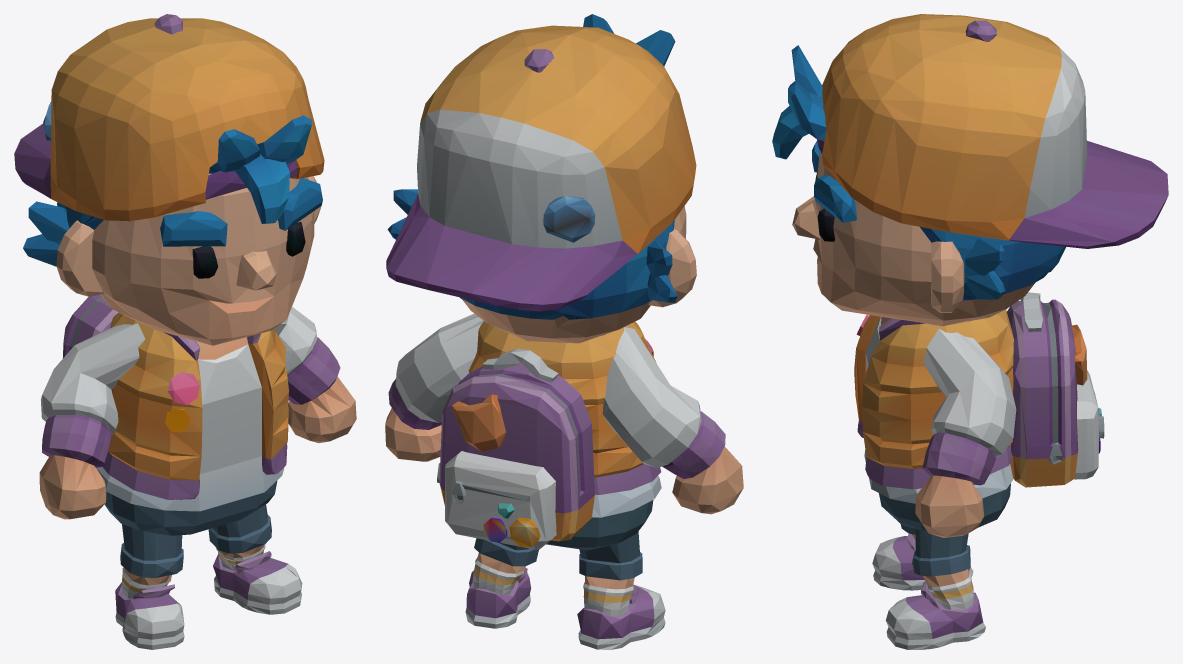
The model's file is civilian-b.glb.
3 views of the same model, side by side, from view 1: azimuth 30°, elevation 25°; view 2: azimuth 150°, elevation 25°; view 3: azimuth 270°, elevation 25° (orthographic).
Visible parts, largest first — view 1: civilian-b; view 2: civilian-b; view 3: civilian-b.
Part boxes in pixels (box(x1,y1,x2,y2)): civilian-b: box(14, 14, 356, 649); civilian-b: box(385, 14, 743, 649); civilian-b: box(772, 14, 1168, 649).
Bounding box in the file's own units: 0.5754 × 1 × 0.6177.
